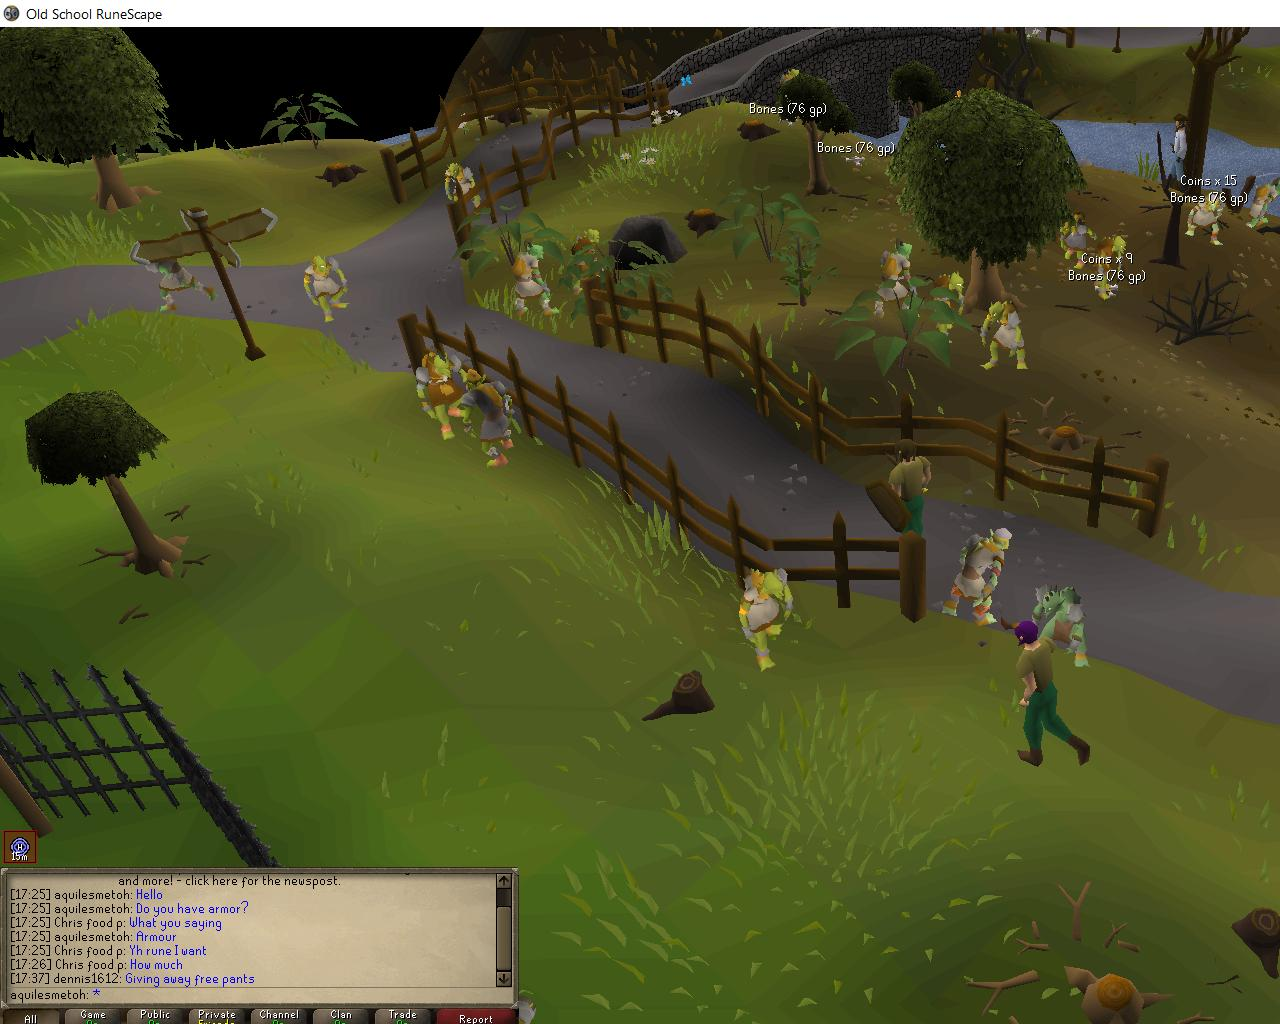Goblin: (939, 523, 1020, 628), (728, 561, 800, 673), (455, 370, 528, 471), (133, 243, 219, 319), (1029, 580, 1097, 671), (408, 351, 472, 444), (505, 239, 562, 319), (980, 295, 1037, 375), (906, 271, 968, 340), (296, 253, 356, 323), (876, 239, 918, 317), (1089, 234, 1133, 305), (565, 227, 608, 298), (1055, 209, 1096, 283), (1182, 188, 1230, 247), (438, 160, 489, 211), (1244, 177, 1280, 236)
